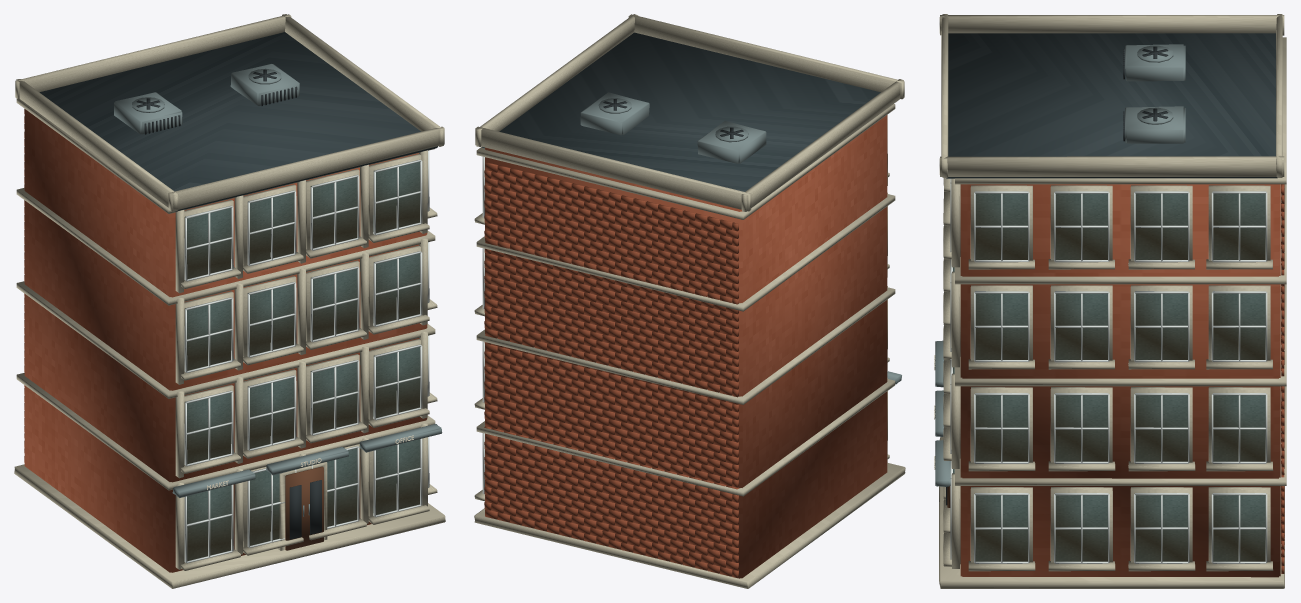
3 renders of one model, left to right at view 1: azimuth 30°, elevation 25°; view 2: azimuth 150°, elevation 25°; view 3: azimuth 270°, elevation 25°, orthographic. The views are drawn at different scales.
Visible parts, largest first — view 1: commercial__static_limestone, commercial__static_warm_brick, commercial__static_warm_glazing, commercial__static_slate, commercial__static_civic_pale_painted_trim, commercial__static_patinated_metal, commercial__door_01__recessed_entrance_leaf, commercial__door_01__door_inset_panel, commercial__door_01, commercial__static_recess_/_shadow_joints; view 2: commercial__static_warm_brick, commercial__static_limestone, commercial__static_slate, commercial__static_patinated_metal, commercial__static_civic_pale_painted_trim; view 3: commercial__static_limestone, commercial__static_warm_glazing, commercial__static_warm_brick, commercial__static_slate, commercial__static_civic_pale_painted_trim, commercial__static_patinated_metal.
Boxes of the visible parts, x1=… form: commercial__static_limestone: x1=14, y1=14, x2=445, y2=588; commercial__static_warm_brick: x1=24, y1=109, x2=427, y2=572; commercial__static_warm_glazing: x1=184, y1=162, x2=419, y2=560; commercial__static_slate: x1=39, y1=32, x2=437, y2=211; commercial__static_civic_pale_painted_trim: x1=184, y1=150, x2=429, y2=563; commercial__static_patinated_metal: x1=114, y1=63, x2=442, y2=497; commercial__door_01__recessed_entrance_leaf: x1=285, y1=466, x2=323, y2=550; commercial__door_01__door_inset_panel: x1=289, y1=485, x2=301, y2=539; commercial__door_01: x1=308, y1=480, x2=321, y2=534; commercial__static_recess_/_shadow_joints: x1=144, y1=86, x2=297, y2=134; commercial__static_warm_brick: x1=484, y1=115, x2=887, y2=578; commercial__static_limestone: x1=474, y1=14, x2=905, y2=588; commercial__static_slate: x1=482, y1=32, x2=880, y2=211; commercial__static_patinated_metal: x1=580, y1=92, x2=901, y2=384; commercial__static_civic_pale_painted_trim: x1=482, y1=156, x2=484, y2=494; commercial__static_limestone: x1=939, y1=14, x2=1286, y2=588; commercial__static_warm_glazing: x1=953, y1=193, x2=1265, y2=561; commercial__static_warm_brick: x1=960, y1=184, x2=1284, y2=577; commercial__static_slate: x1=946, y1=33, x2=1277, y2=178; commercial__static_civic_pale_painted_trim: x1=950, y1=178, x2=1267, y2=563; commercial__static_patinated_metal: x1=935, y1=44, x2=1185, y2=486.
Bounding box in the file's own units: 8.13 × 11 × 8.15.
9 materials, 4 textured.
